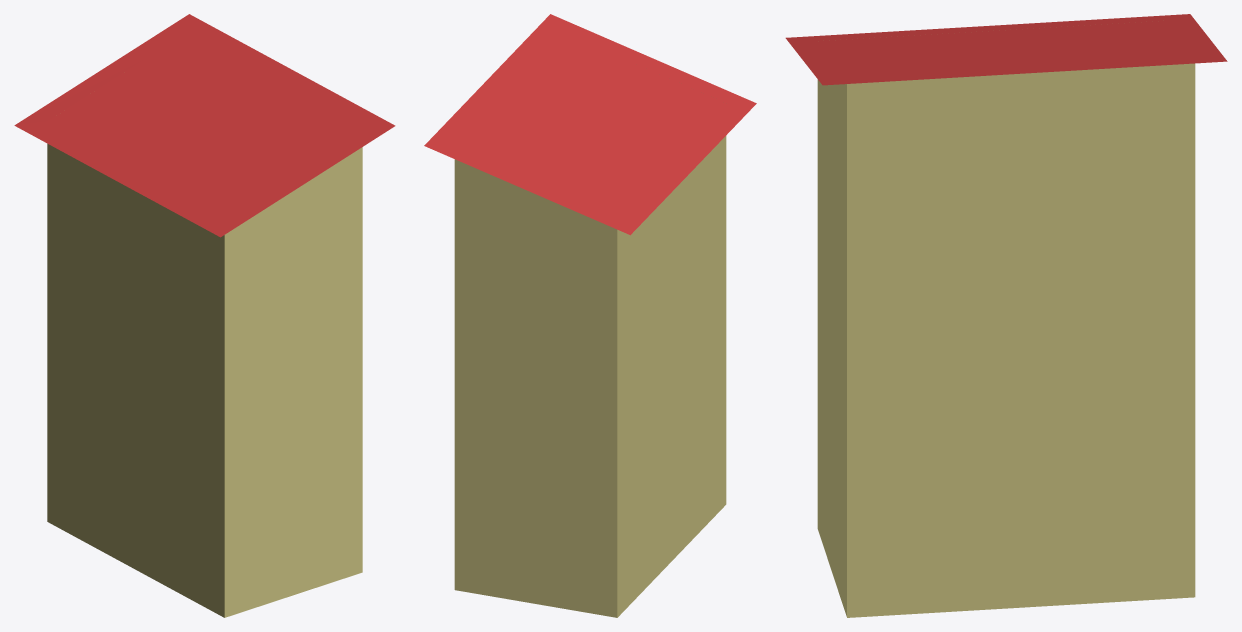
3 views of the same model, side by side, from view 1: azimuth 30°, elevation 25°; view 2: azimuth 150°, elevation 25°; view 3: azimuth 270°, elevation 25° (orthographic). The views are drawn at different scales.
Size of the model in its own units: 2.83 by 3.85 by 5.25.
